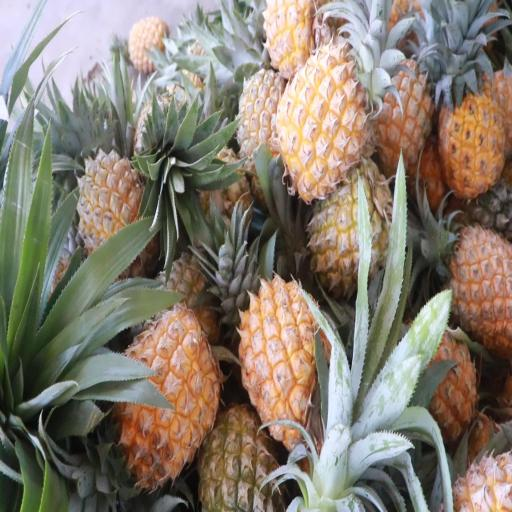------------------------------: (311, 174, 395, 295)
Pineapple - v8 v1: (106, 312, 220, 482), (241, 276, 331, 434), (281, 46, 368, 195), (398, 324, 475, 448), (435, 226, 511, 344), (441, 80, 507, 196), (372, 58, 437, 172), (266, 0, 323, 70)
